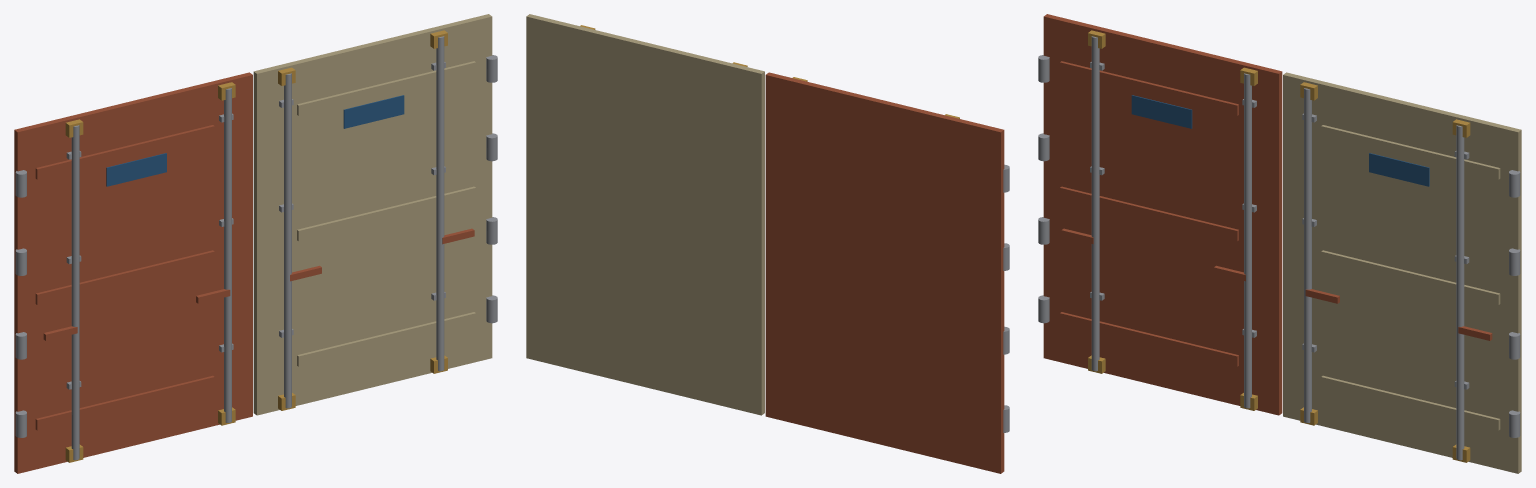
File: hold100_door.obj
3 renders of one model, left to right at view 1: azimuth 30°, elevation 25°; view 2: azimuth 150°, elevation 25°; view 3: azimuth 330°, elevation 25°, orthographic.
Visible parts, largest first — view 1: hold100_door; view 2: hold100_door; view 3: hold100_door.
Part boxes in pixels (<box>): hold100_door: <box>14,14,497,473</box>; hold100_door: <box>526,14,1009,473</box>; hold100_door: <box>1038,14,1521,473</box>.
Bounding box in the file's own units: 4.81 × 3.27 × 0.15.
